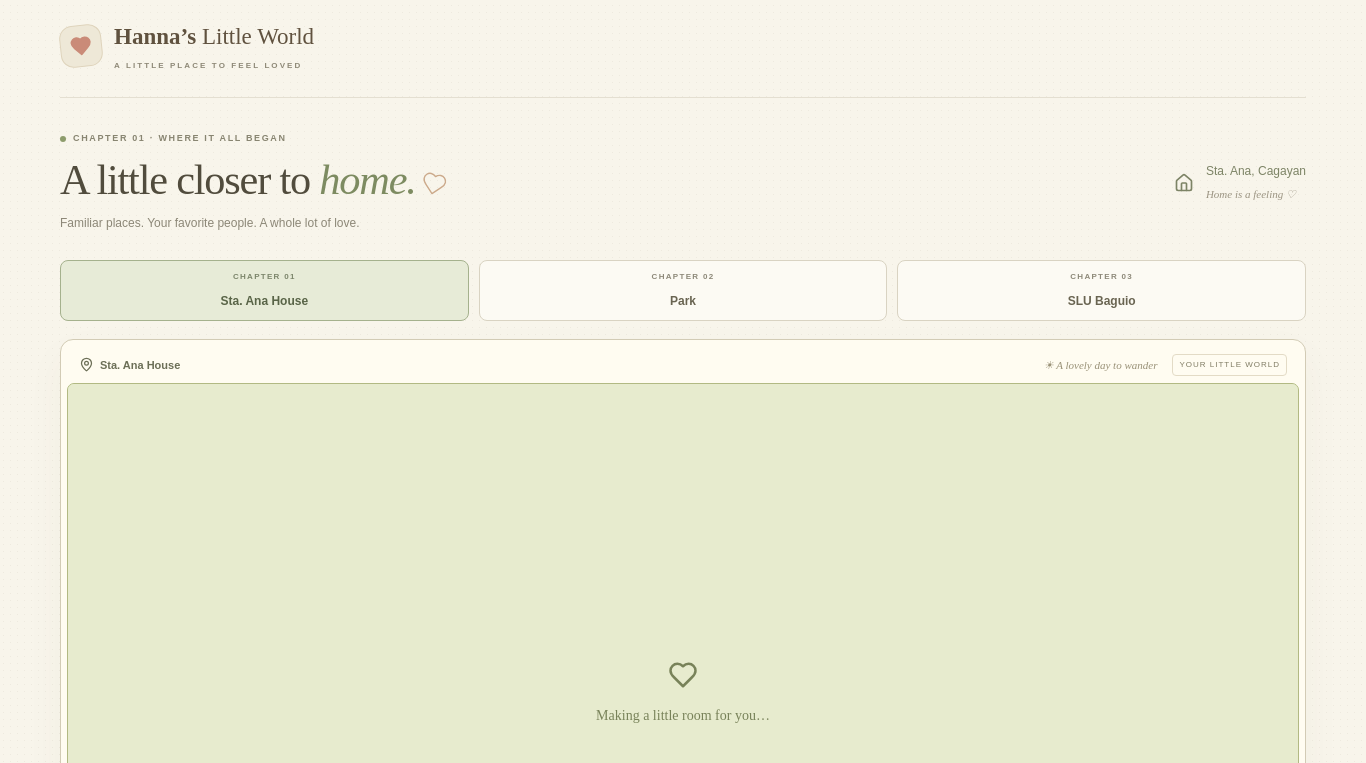
Test case: M4 navigation and protected scene loading › loads only the selected protected scene and persists the session through navigation
This screenshot has width=1366, height=763.
Click the button with aria-label "Visit Park".
click(677, 277)  # box left=479, top=260, right=887, bottom=321
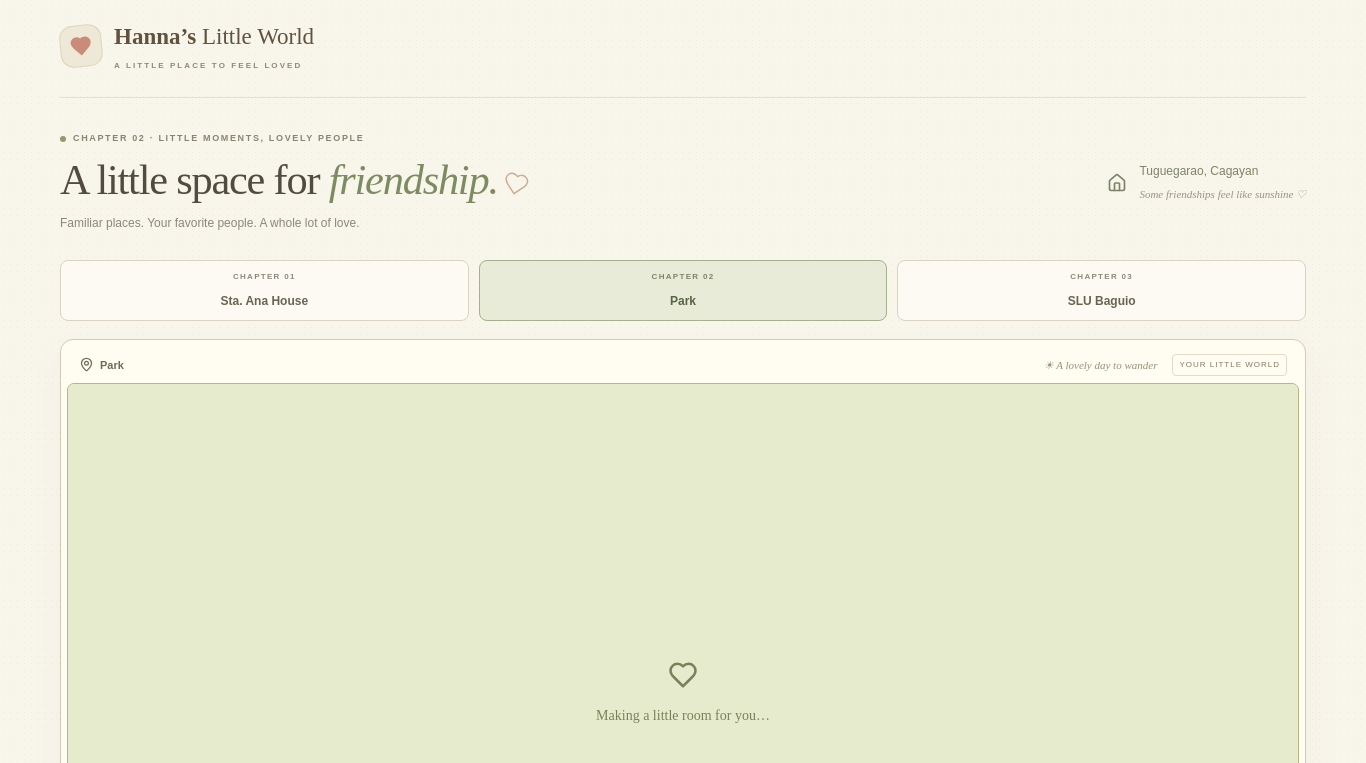
Click the button with aria-label "Visit SLU Baguio".
click(1096, 277)  # box left=897, top=260, right=1306, bottom=321
(page scrolled)
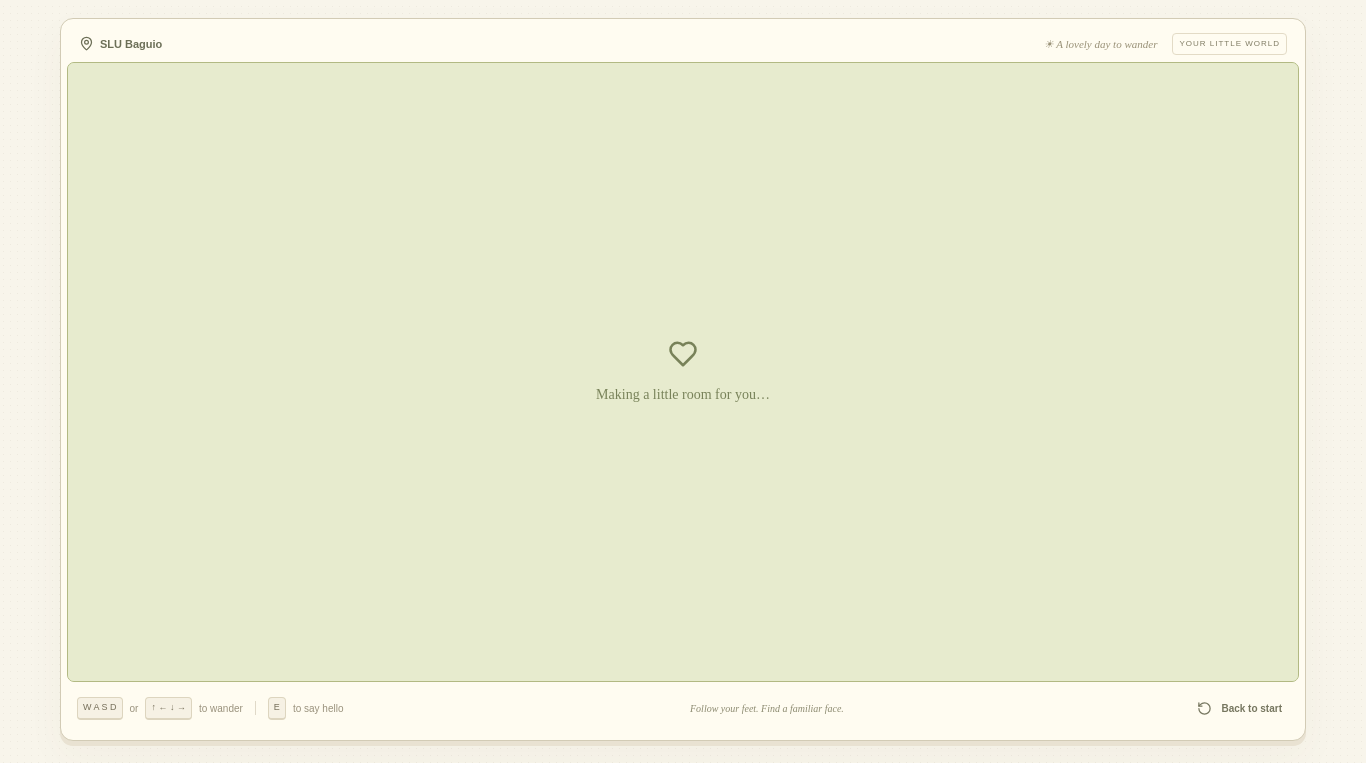
Check: the element named "Explore SLU Baguio" is shown
